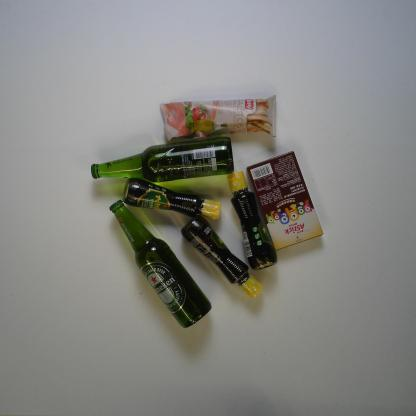Alcohol: (106, 197, 212, 330), (89, 134, 236, 190)
Dessert: (242, 145, 327, 254), (160, 89, 279, 148)
Seasoner: (180, 212, 264, 301), (226, 167, 280, 272), (119, 175, 225, 225)
